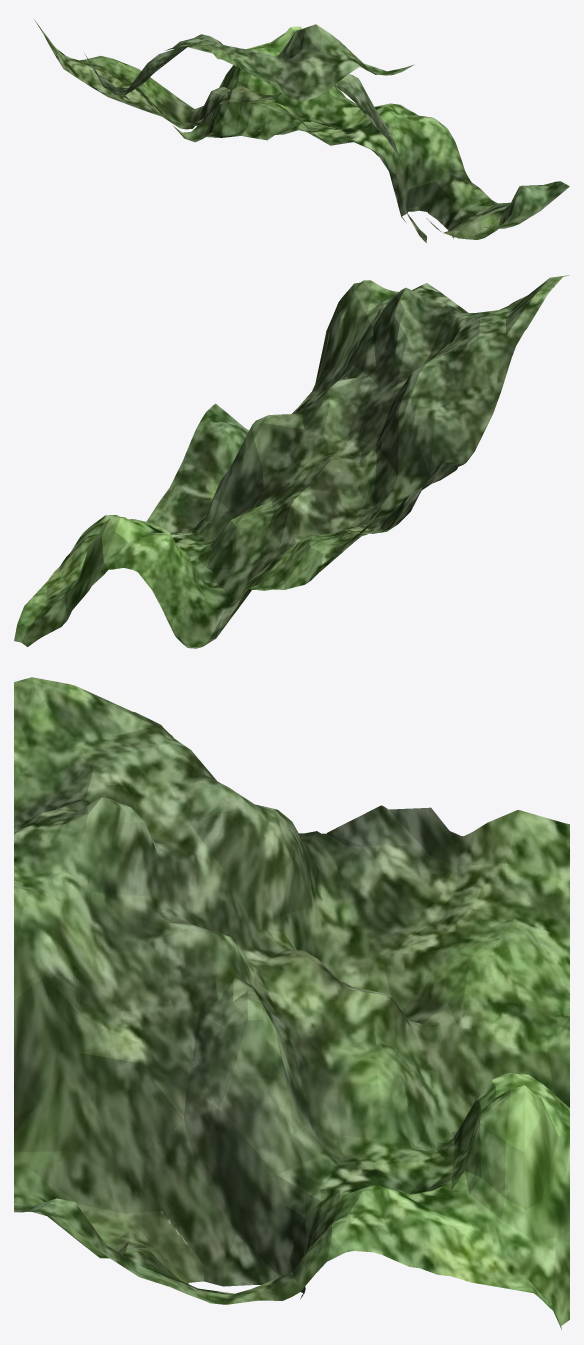
3 renders of one model, top to bottom at view 1: azimuth 30°, elevation 25°; view 2: azimuth 150°, elevation 25°; view 3: azimuth 270°, elevation 25°, orthographic. The views are drawn at different scales.
Bounding box in the file's own units: 2.95 × 2.45 × 2.95.
3 materials, 3 textured.
